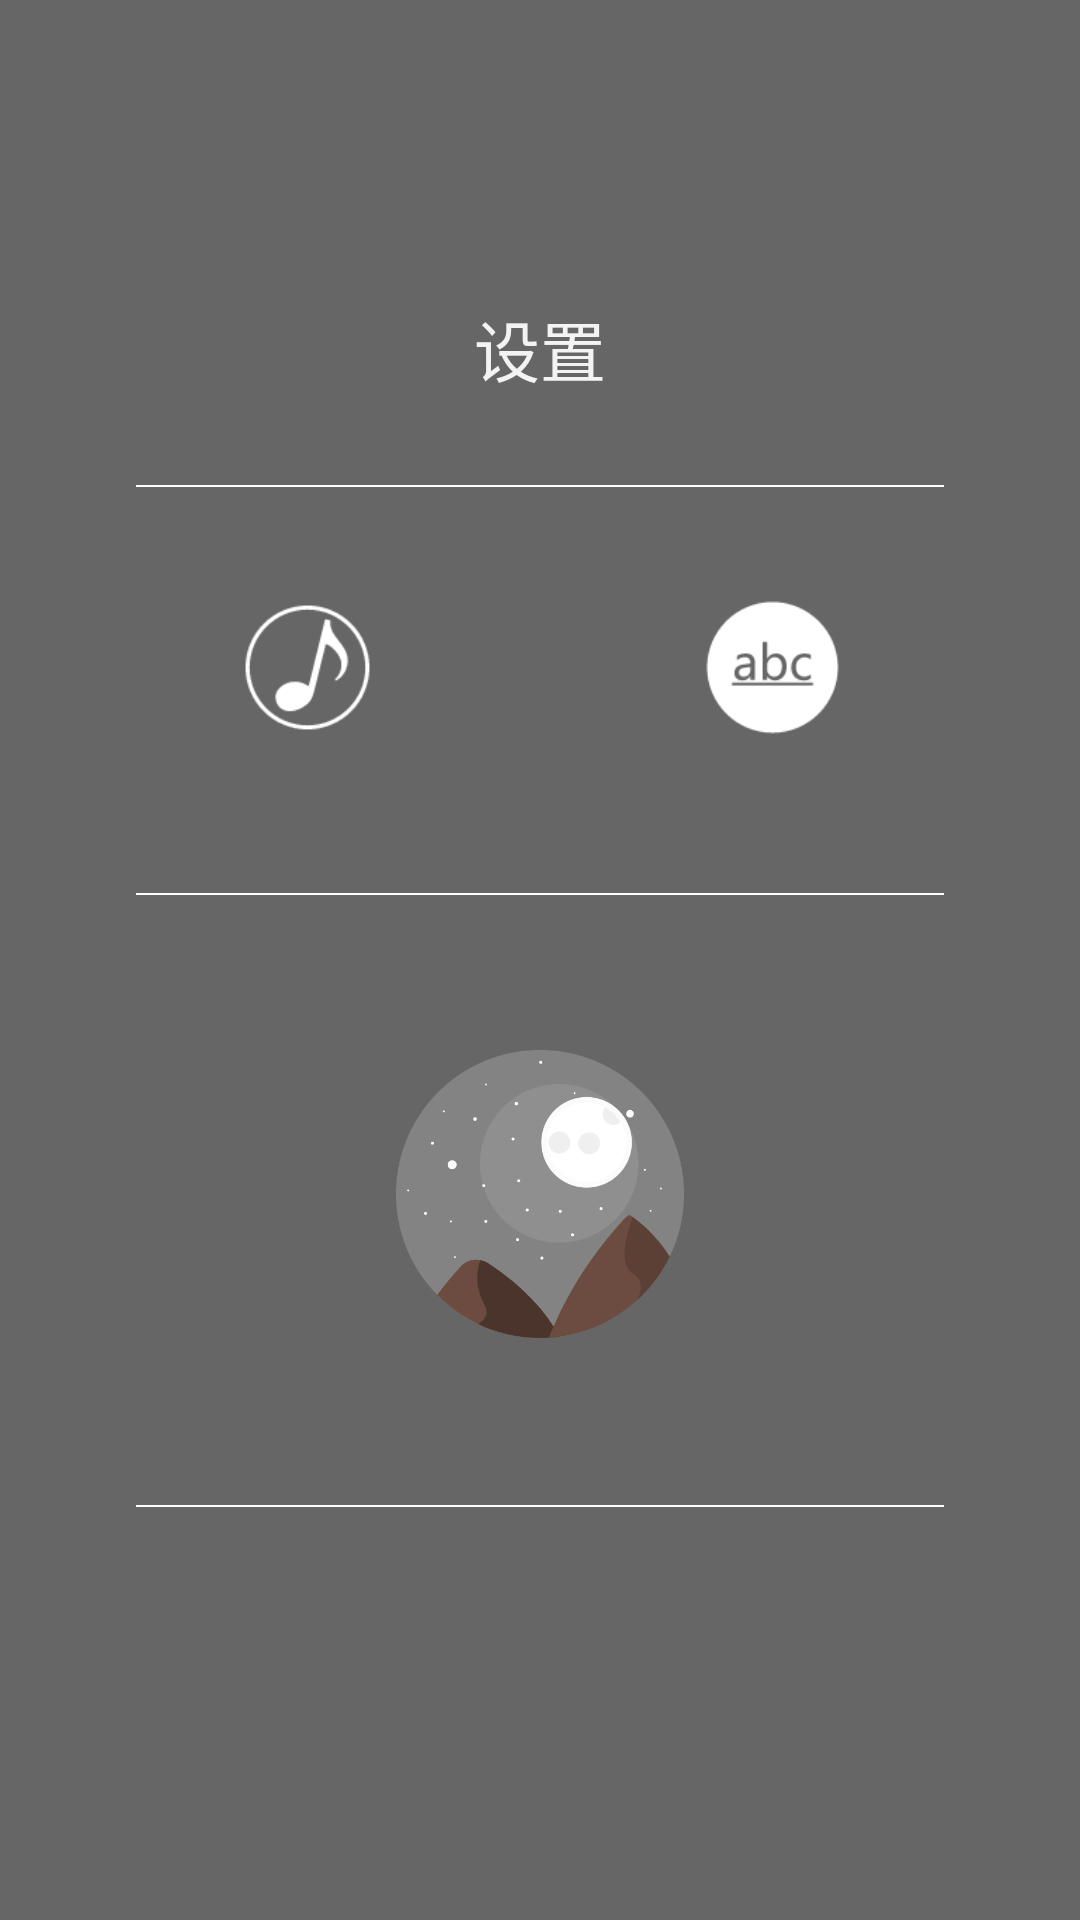

Named icons in this screenshot (1080*1920) and their bounding boxes, (x1, y1, x2, y2):
ascii: (706, 601, 839, 734)
music on: (245, 605, 370, 730)
nightsky: (396, 1050, 684, 1338)
